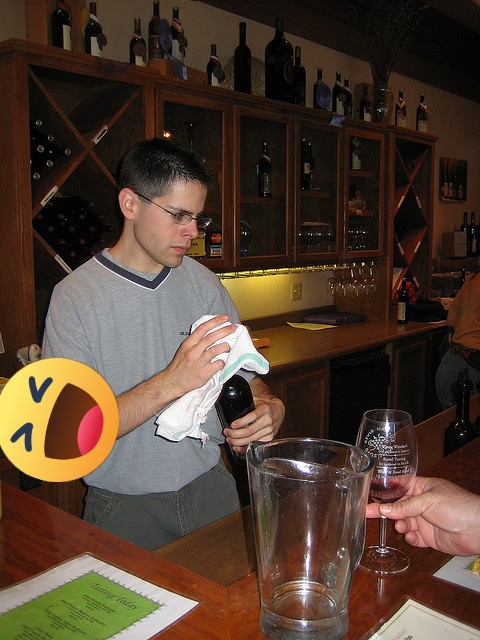haha: (0, 358, 119, 482)
